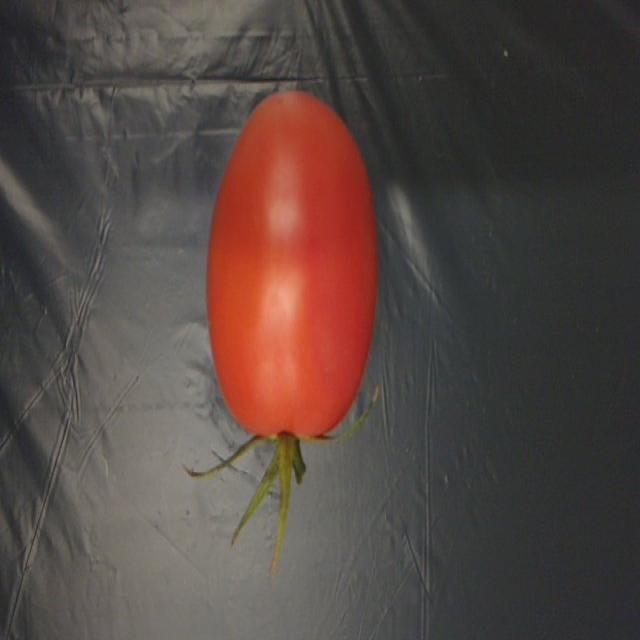kirmizi: (180, 69, 394, 466)
